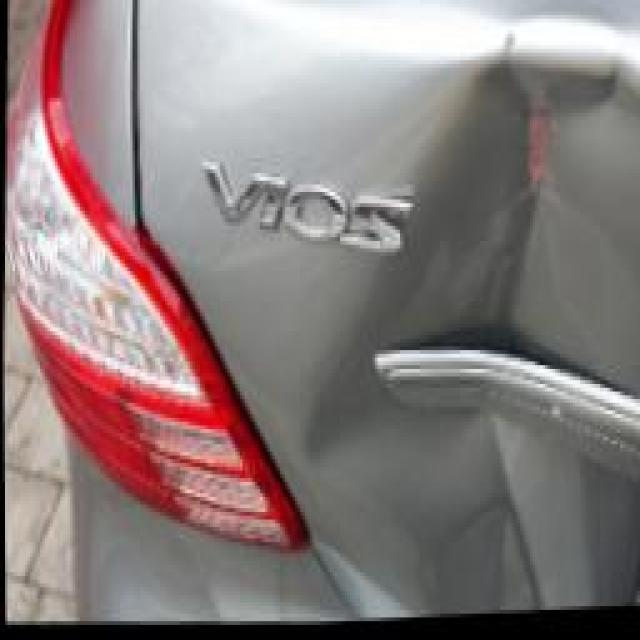Dickey: (315, 0, 635, 626)
